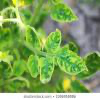Tomato leaf yellow virus: (54, 48, 93, 76), (51, 1, 86, 26), (38, 53, 56, 85), (46, 27, 64, 55), (25, 22, 39, 53)
